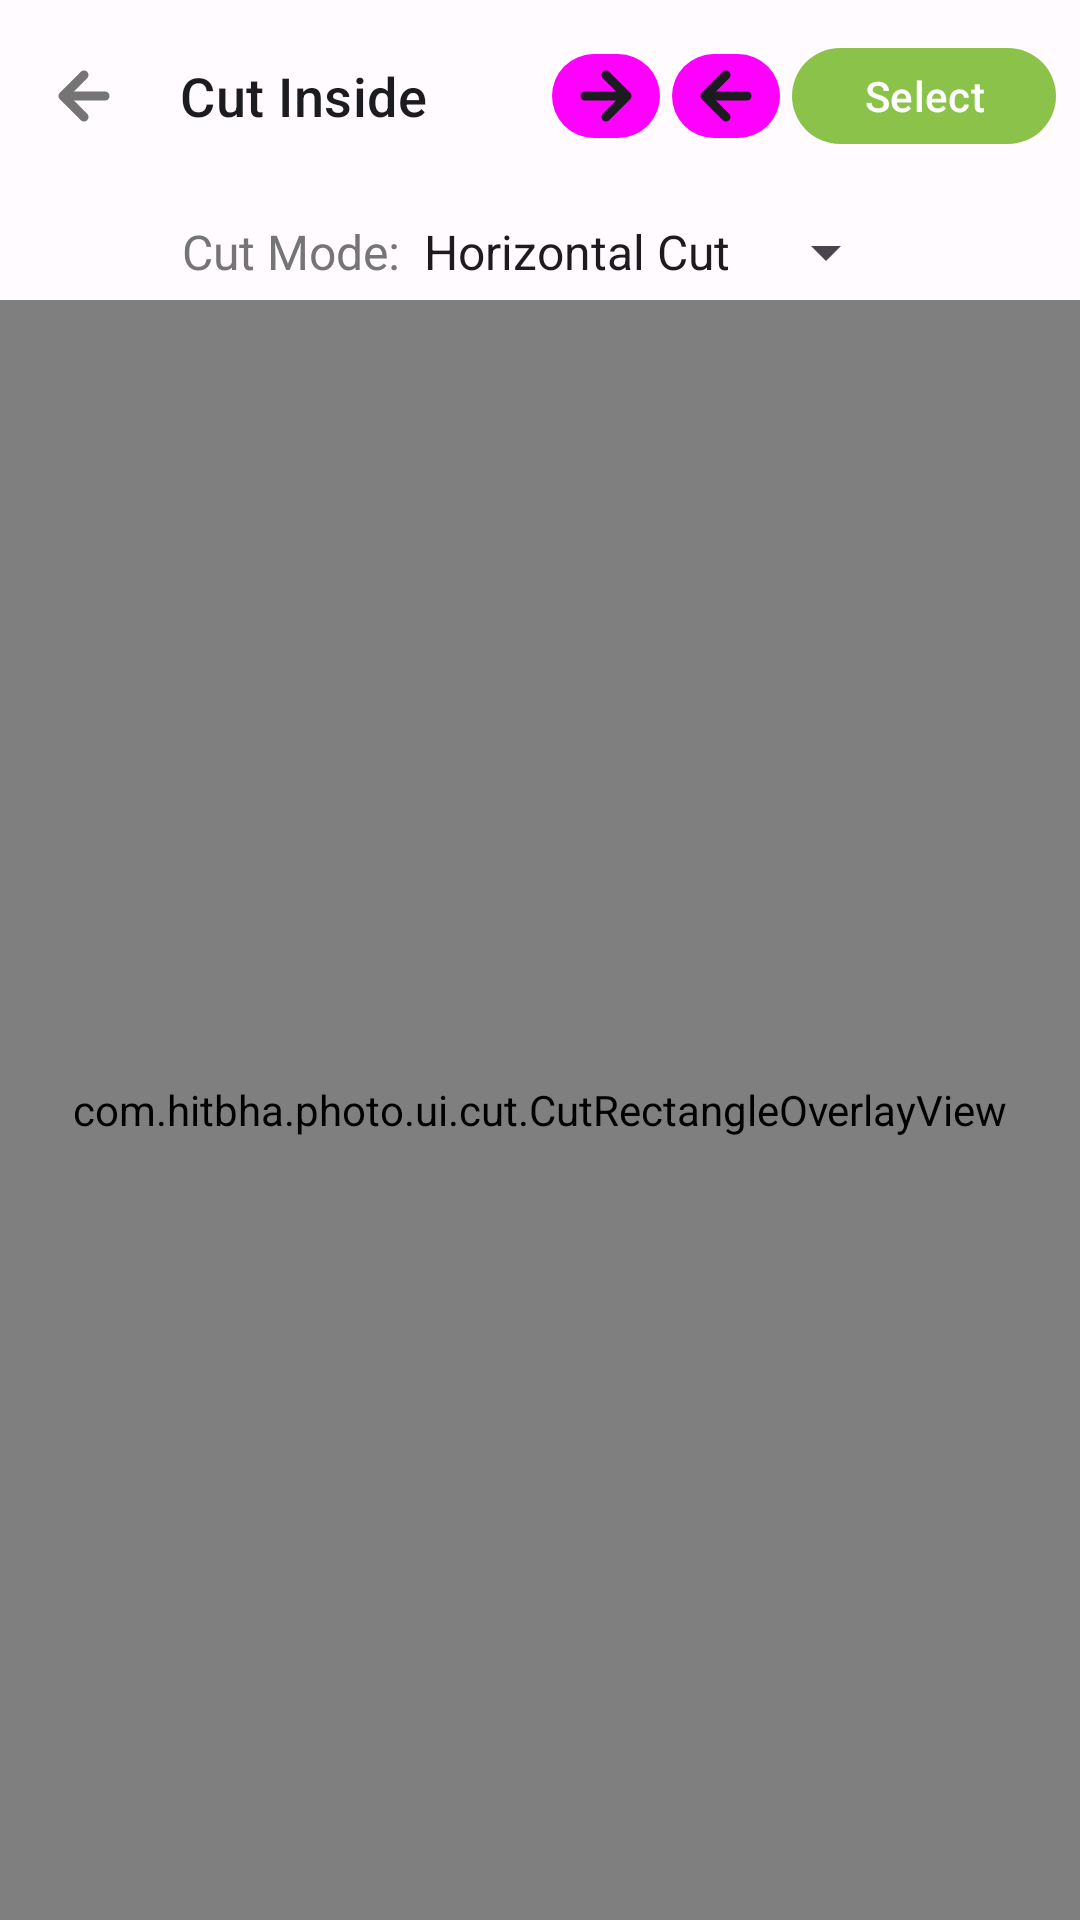

Named icons in this screenshot (1080 × 1920) and their bounding boxes, (x1, y1, x2, y2):
Redo: (552, 54, 660, 138)
Undo: (672, 54, 780, 138)
